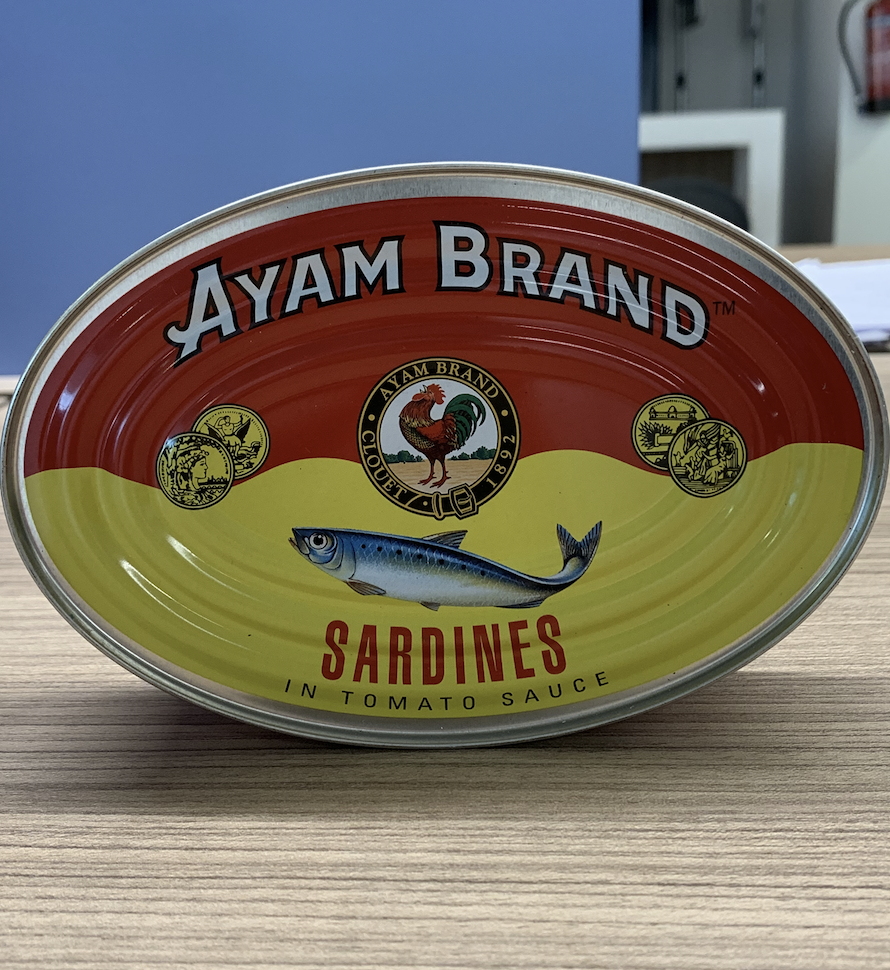sardines_150g: (151, 242, 756, 718)
